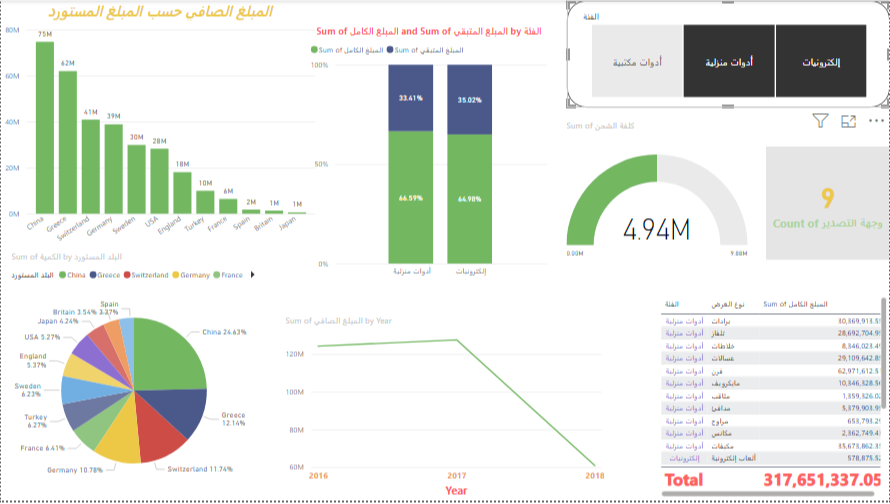

Layout of this report page (visuals, bound fields, positions):
{"tool":"powerbi","page":{"name":"Page 1","canvas":[1280,720],"ordinal":0},"visuals":[{"type":"columnChart","title":"المبلغ الصافي حسب المبلغ المستورد","fields":{"Category":["Table1.البلد المستورد"],"Y":["Sum(Table1.المبلغ الصافي)"]},"box":[0,0,457.9,360],"z":0},{"type":"pieChart","fields":{"Category":["Table1.البلد المستورد"],"Y":["Sum(Table1.الكمية)"]},"box":[10.1,360,362.9,360],"z":1000},{"type":"lineChart","fields":{"Y":["Sum(Table1.المبلغ الصافي)"],"Category":["Table1.تاريخ الاستيراد.Variation.Date Hierarchy.Year","Table1.تاريخ الاستيراد.Variation.Date Hierarchy.Quarter","Table1.تاريخ الاستيراد.Variation.Date Hierarchy.Month","Table1.تاريخ الاستيراد.Variation.Date Hierarchy.Day"]},"box":[404.6,452.2,469.4,267.8],"z":2000},{"type":"hundredPercentStackedColumnChart","fields":{"Y":["Sum(Table1.المبلغ الكامل)","Sum(Table1.المبلغ المتبقي)"],"Category":["Table1.الفئة"]},"box":[440.6,34.6,351.4,373],"z":3000},{"type":"tableEx","fields":{"Values":["Table1.الفئة","Table1.نوع الغرض","Sum(Table1.المبلغ الكامل)"]},"box":[944.6,421.9,335.5,298.1],"z":4000},{"type":"card","fields":{"Values":["Count(Table1.وجهة التصدير)"]},"box":[1101.6,210.2,178.6,162.7],"z":5000},{"type":"slicer","fields":{"Values":["Table1.الفئة"]},"box":[815,0,465.1,154.1],"z":6000},{"type":"gauge","fields":{"Y":["Sum(Table1.كلفة الشحن)"]},"box":[809.3,171.4,270.7,236.2],"z":7000}]}

Visuals, with their boxes in screenshot pixels (x1, y1, x2, y2), scaled from the page's 1280x720 canvas onto the 890x504 screenshot:
"المبلغ الصافي حسب المبلغ المستورد" columnChart: 0:0:318:252
pieChart - Table1.البلد المستورد x Sum(Table1.الكمية): 7:252:259:503
lineChart - Sum(Table1.المبلغ الصافي) x Table1.تاريخ الاستيراد.Variation.Date Hierarchy.Year: 281:317:608:503
hundredPercentStackedColumnChart - Sum(Table1.المبلغ الكامل) x Sum(Table1.المبلغ المتبقي): 306:24:551:285
tableEx - Table1.الفئة x Table1.نوع الغرض: 657:295:889:503
card - Count(Table1.وجهة التصدير): 766:147:889:261
slicer - Table1.الفئة: 567:0:889:108
gauge - Sum(Table1.كلفة الشحن): 563:120:751:285
